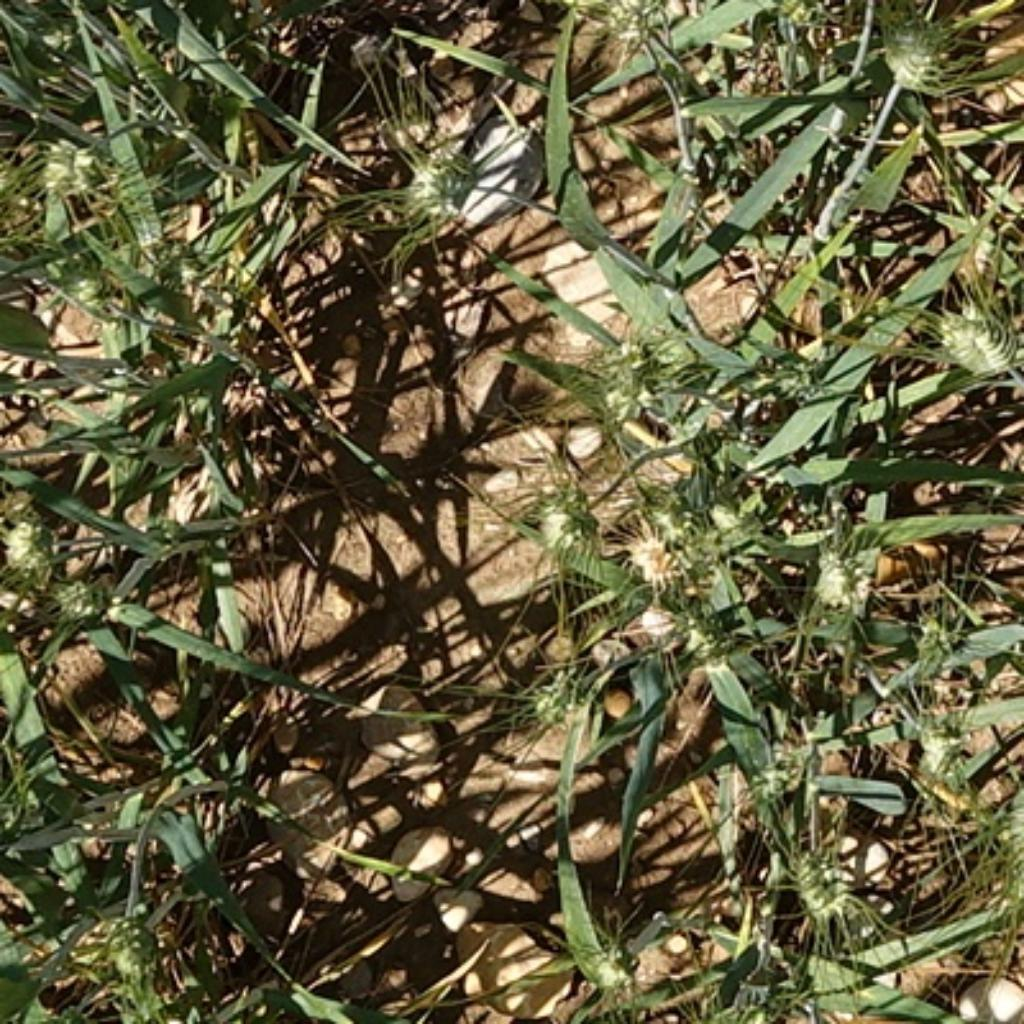0-0: (56, 888, 186, 1011), (560, 903, 668, 1006), (739, 716, 837, 821), (642, 593, 757, 673), (396, 120, 483, 217), (903, 686, 983, 791), (866, 0, 953, 94), (929, 289, 1024, 373), (780, 824, 862, 921), (803, 517, 880, 614), (619, 509, 711, 588), (532, 476, 614, 558), (519, 652, 601, 724), (706, 473, 780, 550), (33, 128, 115, 197), (46, 552, 117, 622), (2, 499, 66, 573), (906, 601, 970, 675), (596, 330, 680, 386), (583, 1, 673, 47), (514, 0, 601, 2)
